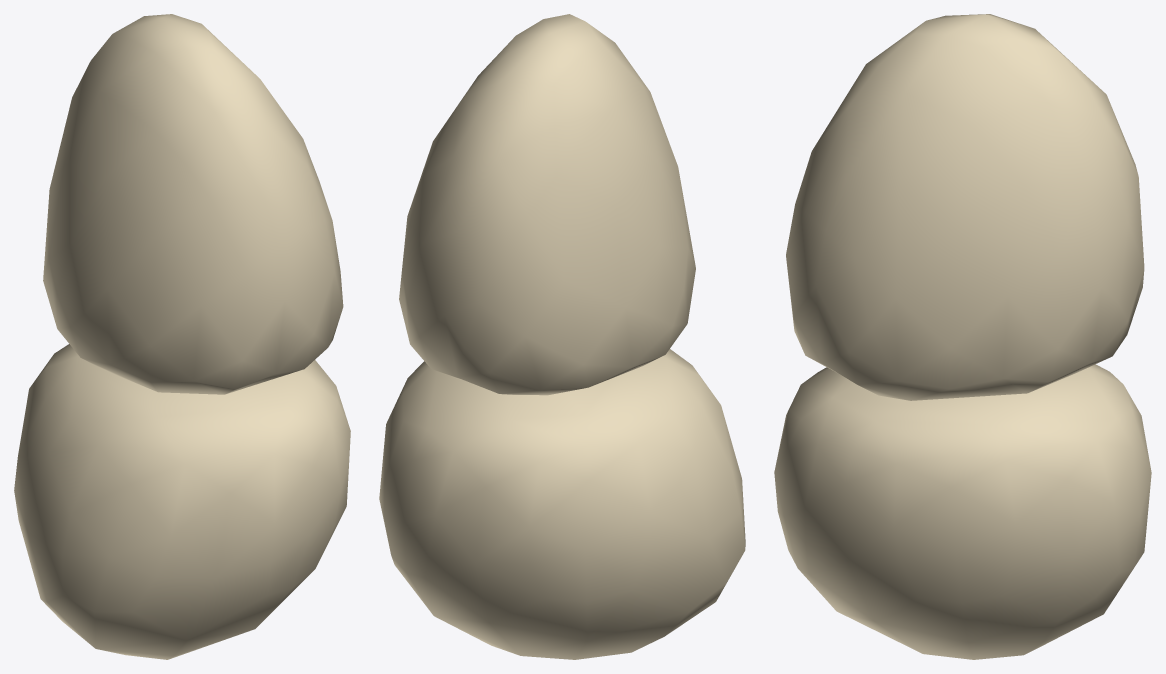
The model's file is esqueleto-anterior-cells-of-ethmoid-bone-r.glb.
3 renders of one model, left to right at view 1: azimuth 30°, elevation 25°; view 2: azimuth 150°, elevation 25°; view 3: azimuth 270°, elevation 25°, orthographic. The views are drawn at different scales.
Parts seen in each view (by area): view 1: Anterior cells of ethmoid bone.r; view 2: Anterior cells of ethmoid bone.r; view 3: Anterior cells of ethmoid bone.r.
Boxes of the visible parts, x1,y1,x2,y2 form: Anterior cells of ethmoid bone.r: (14,14,350,659); Anterior cells of ethmoid bone.r: (379,14,745,659); Anterior cells of ethmoid bone.r: (774,14,1151,659).
Size of the model in its own units: 0.00719 by 0.0142 by 0.00766.
